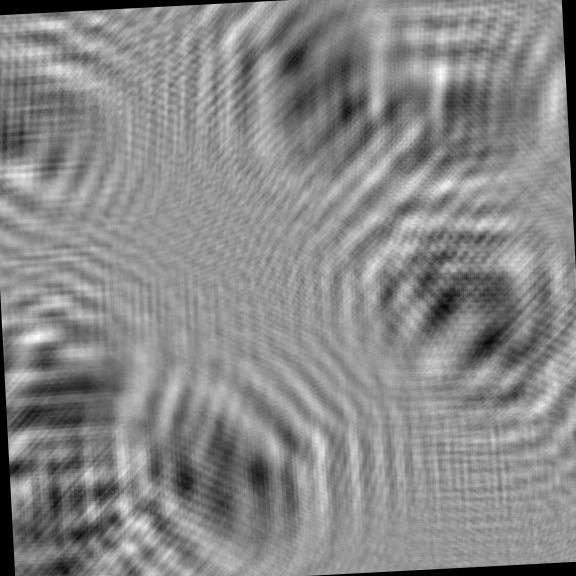K: (0, 264, 211, 501)
L: (349, 0, 572, 223), (0, 11, 164, 251)
N: (118, 336, 370, 576), (197, 0, 439, 233), (6, 406, 210, 576)
W: (331, 177, 576, 455)
